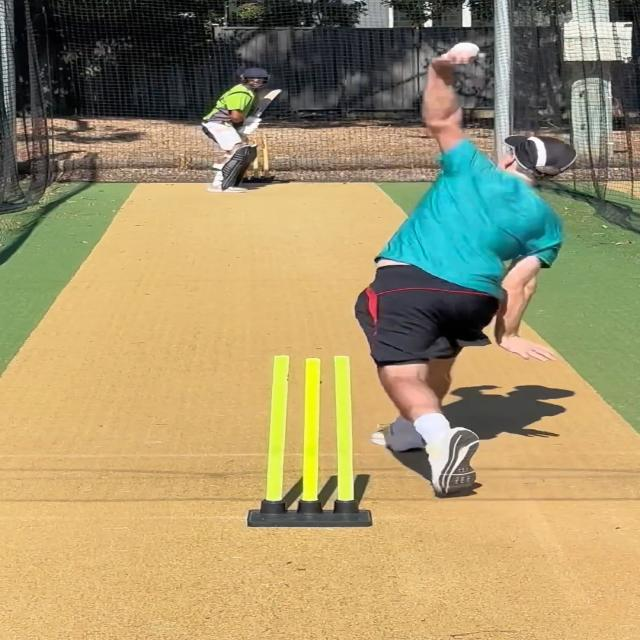stump: (246, 352, 369, 528)
